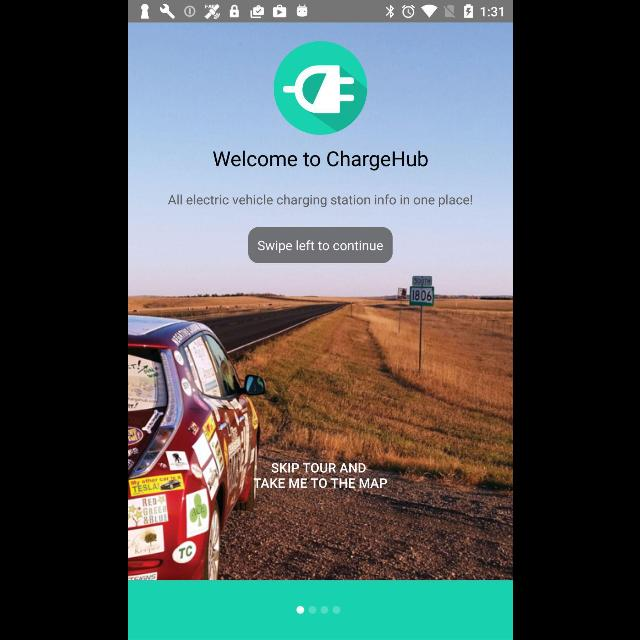backgroundimage: (128, 22, 512, 580)
image: (272, 42, 366, 134)
pageindicator: (296, 606, 340, 614)
text: (166, 194, 472, 208), (212, 150, 426, 170), (252, 462, 386, 488)
textbutton: (246, 227, 392, 263)
uppertaskbar: (128, 1, 512, 23)
